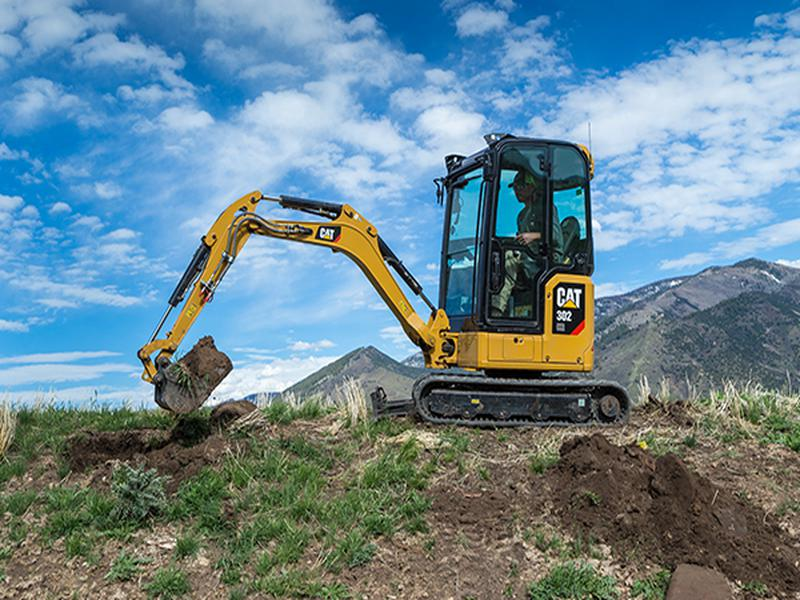shovel: (131, 126, 641, 438)
